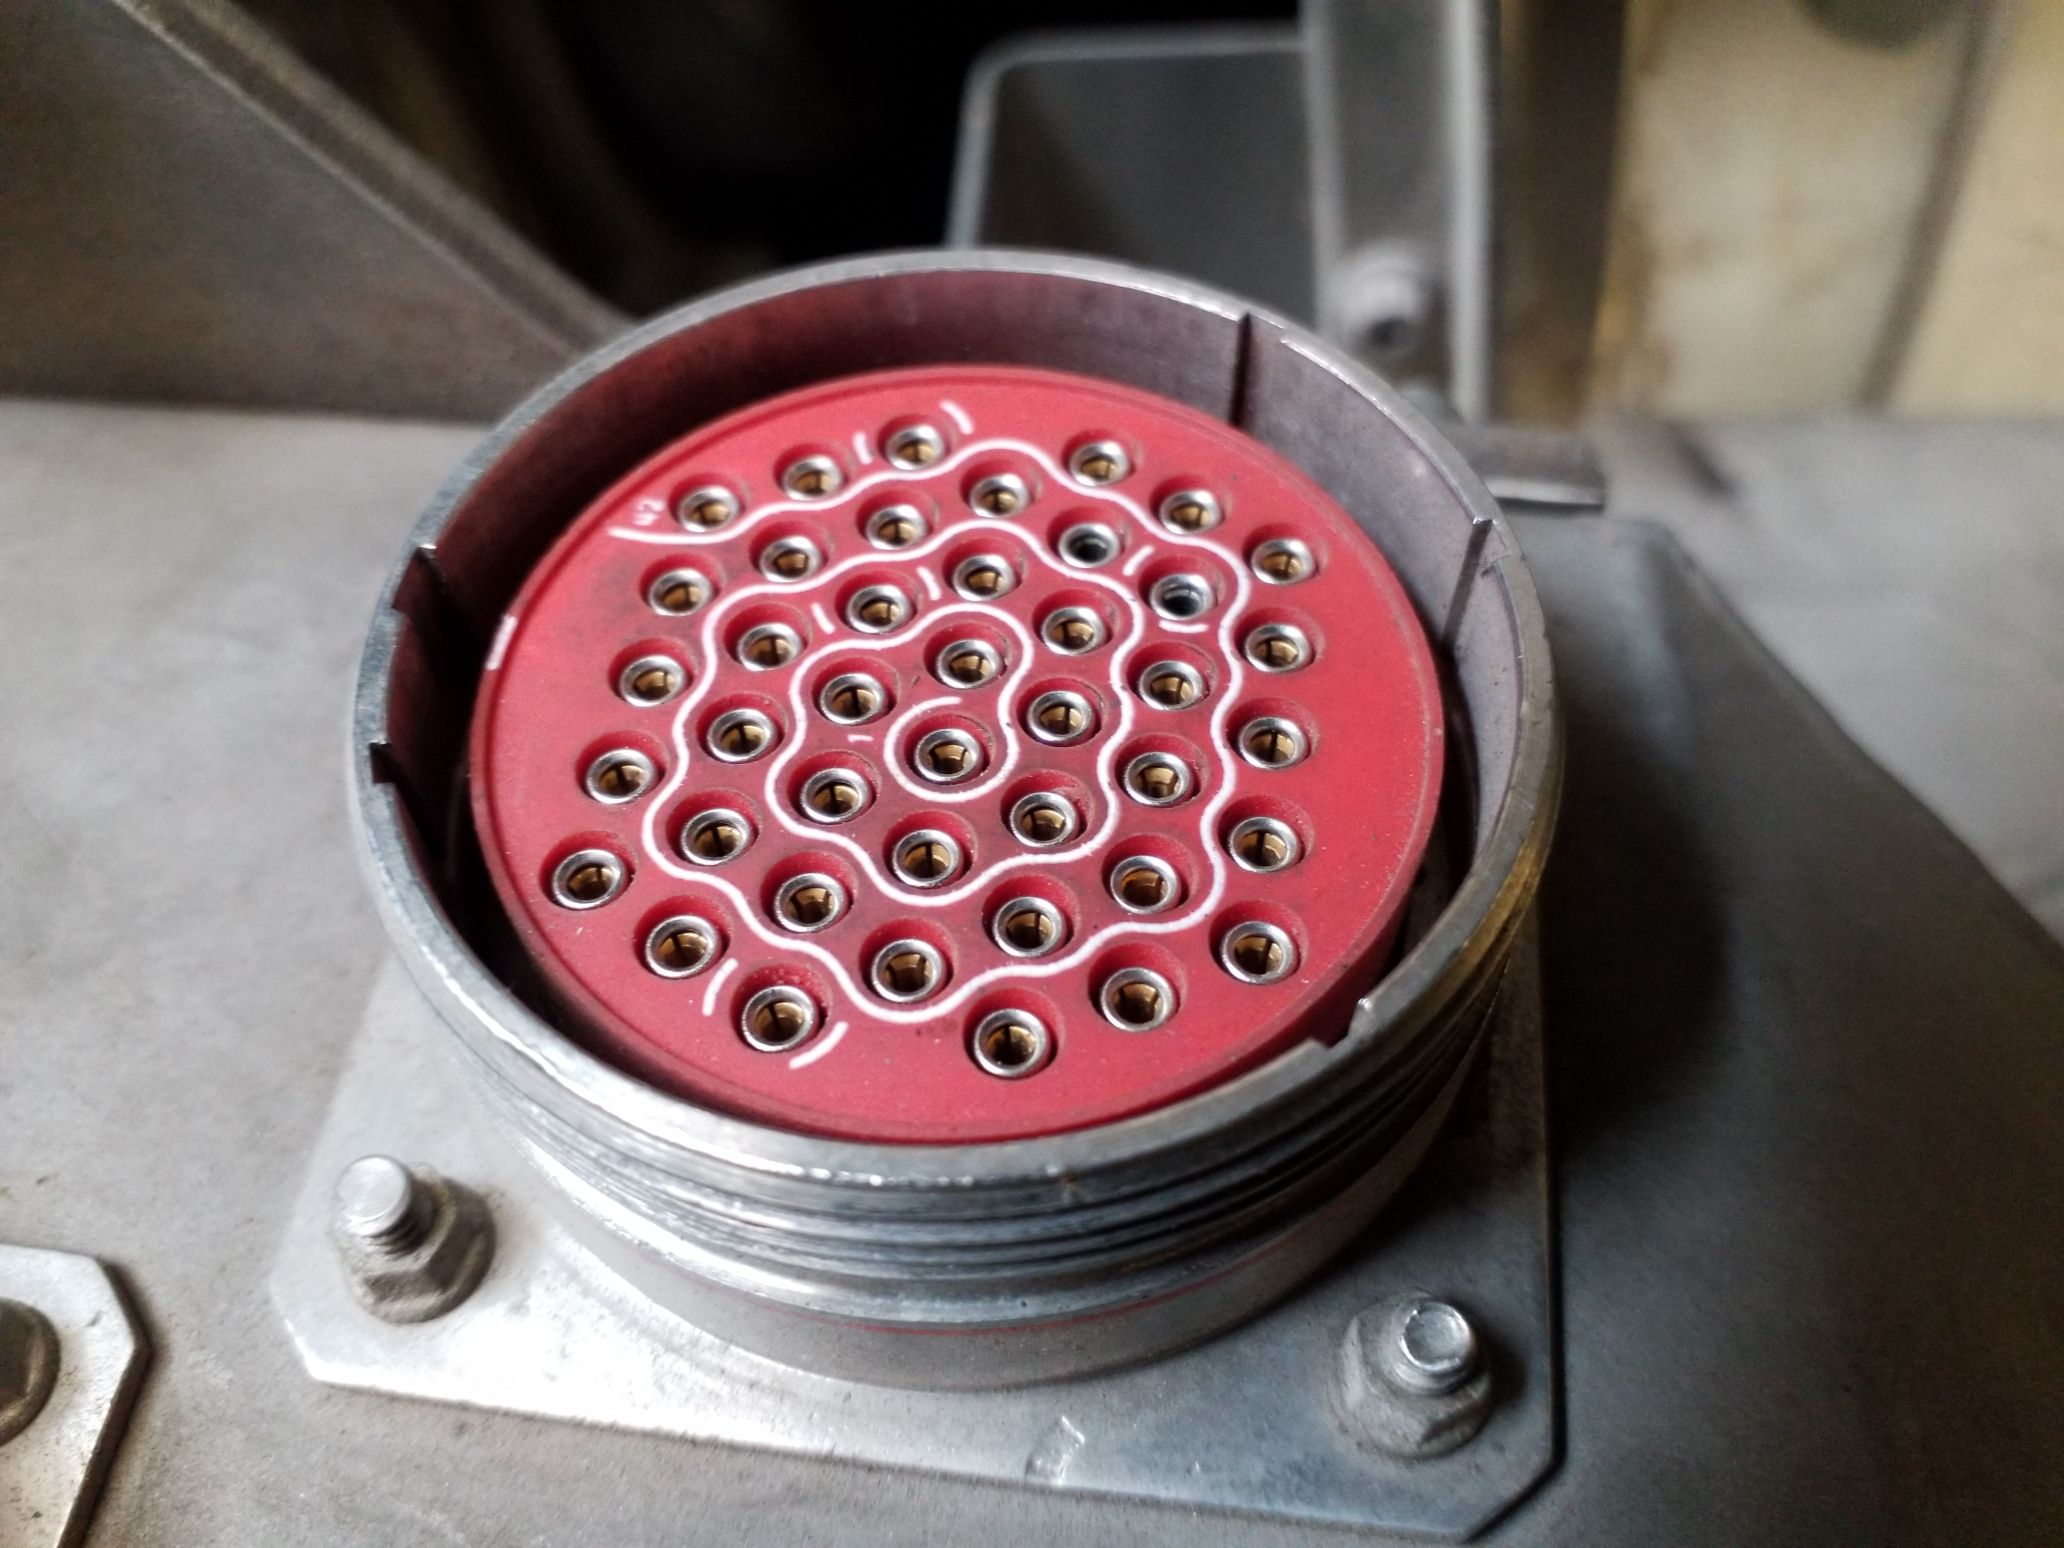inletround: (345, 242, 1572, 1390)
